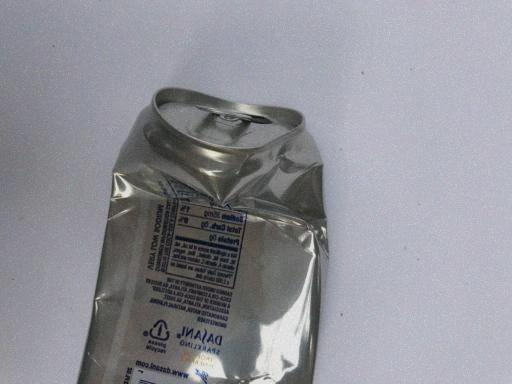trash: (80, 87, 330, 384)
